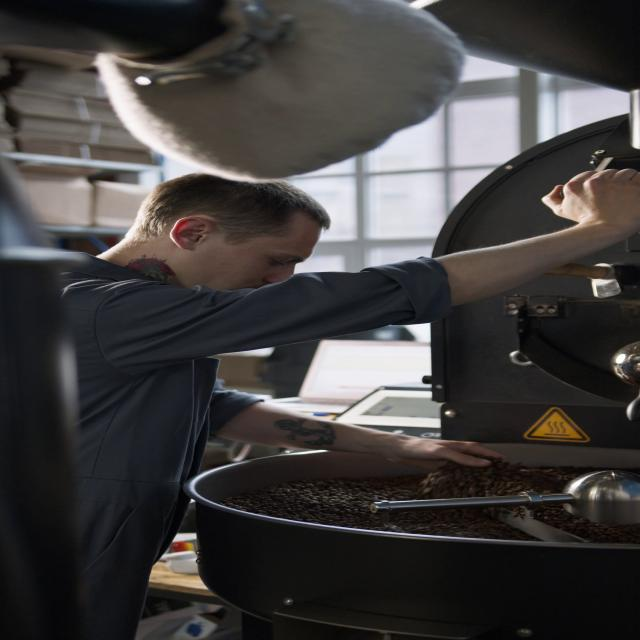not-gloved: (543, 167, 640, 223), (377, 432, 510, 472)
